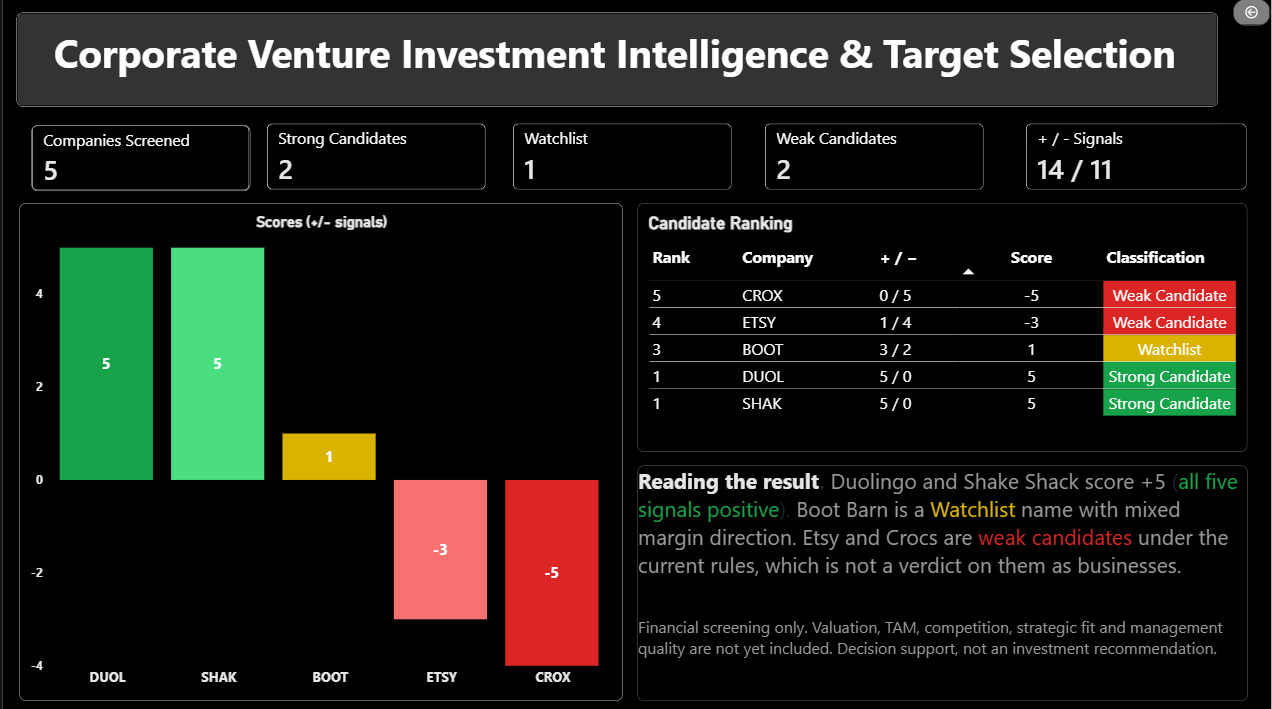

Layout of this report page (visuals, bound fields, positions):
{"tool":"powerbi","page":{"name":"Executive Overview","canvas":[1920,1080],"ordinal":0},"visuals":[{"type":"cardVisual","title":"Companies Screened","fields":{"Data":["Count(investment_intelligence investment_screening.company)"]},"box":[44,190.7,331.4,100],"z":0},{"type":"cardVisual","title":"Strong Candidate","fields":{"Data":["investment_intelligence investment_screening.Strong Candidates"]},"box":[400,188.6,331.4,100],"z":1000},{"type":"cardVisual","fields":{"Data":["investment_intelligence investment_screening.Watchlist"]},"box":[771.4,188.6,331.4,100],"z":2000},{"type":"cardVisual","fields":{"Data":["investment_intelligence investment_screening.Weak Candidates"]},"box":[1154.3,188.6,331.4,100],"z":3000},{"type":"cardVisual","fields":{"Data":["investment_intelligence investment_screening.Positive / Negative Signals"]},"box":[1549,188.5,334.3,100],"z":4000},{"type":"clusteredColumnChart","title":"Scores (+/- signals)","fields":{"Category":["investment_intelligence investment_screening.company"],"Y":["Sum(investment_intelligence investment_screening.Net Score)"]},"box":[25,308.9,913.1,754.1],"z":5000},{"type":"tableEx","title":"Candidate Ranking","fields":{"Values":["investment_intelligence investment_screening.Rank","investment_intelligence investment_screening.company","investment_intelligence investment_screening.Positive / Negative Signals","Sum(investment_intelligence investment_screening.Net Score)","investment_intelligence investment_screening.Classification"]},"box":[960.5,308.8,923.7,376.8],"z":6000},{"type":"actionButton","box":[1862.5,0,56.6,40.4],"z":7000},{"type":"shape","box":[21.6,21.6,1819.4,142.9],"z":8000},{"type":"textbox","box":[78.2,40.4,1741.2,102.4],"z":9000},{"type":"shape","box":[960.5,705.5,923.7,357],"z":10000},{"type":"textbox","box":[960.8,706.6,924.1,356.9],"z":11000}]}

Visuals, with their boxes in screenshot pixels (x1, y1, x2, y2), scaled from the page's 1920x1080 canvas onto the 1272x709 screenshot:
"Companies Screened" cardVisual: locate(29, 125, 249, 191)
"Strong Candidate" cardVisual: locate(265, 124, 485, 189)
cardVisual - investment_intelligence investment_screening.Watchlist: locate(511, 124, 731, 189)
cardVisual - investment_intelligence investment_screening.Weak Candidates: locate(765, 124, 984, 189)
cardVisual - investment_intelligence investment_screening.Positive / Negative Signals: locate(1026, 124, 1248, 189)
"Scores (+/- signals)" clusteredColumnChart: locate(17, 203, 621, 698)
"Candidate Ranking" tableEx: locate(636, 203, 1248, 450)
actionButton: locate(1234, 0, 1271, 27)
shape: locate(14, 14, 1220, 108)
textbox: locate(52, 27, 1205, 94)
shape: locate(636, 463, 1248, 698)
textbox: locate(637, 464, 1249, 698)
